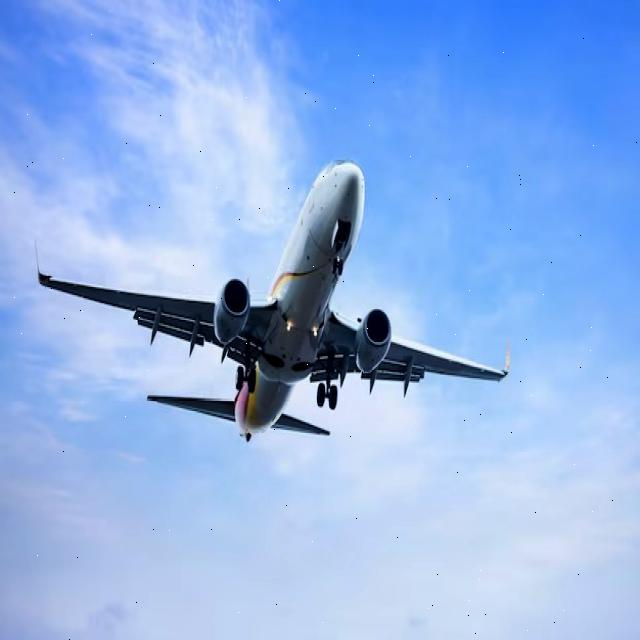aircraft: (3, 133, 586, 493)
